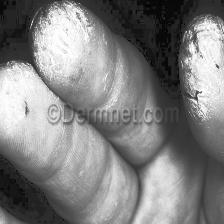Non-Cancerous Skin Condition: (184, 17, 224, 124), (42, 9, 98, 72), (0, 71, 35, 132)
